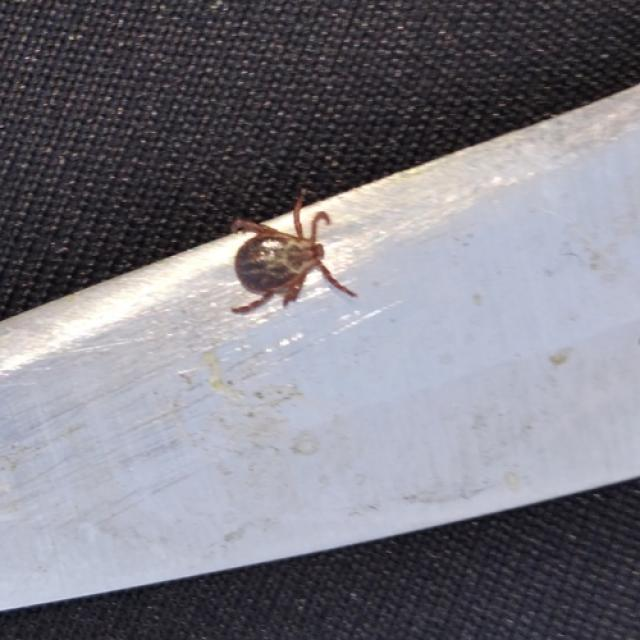Dermacentor Reticulatus-M: (230, 195, 358, 314)
